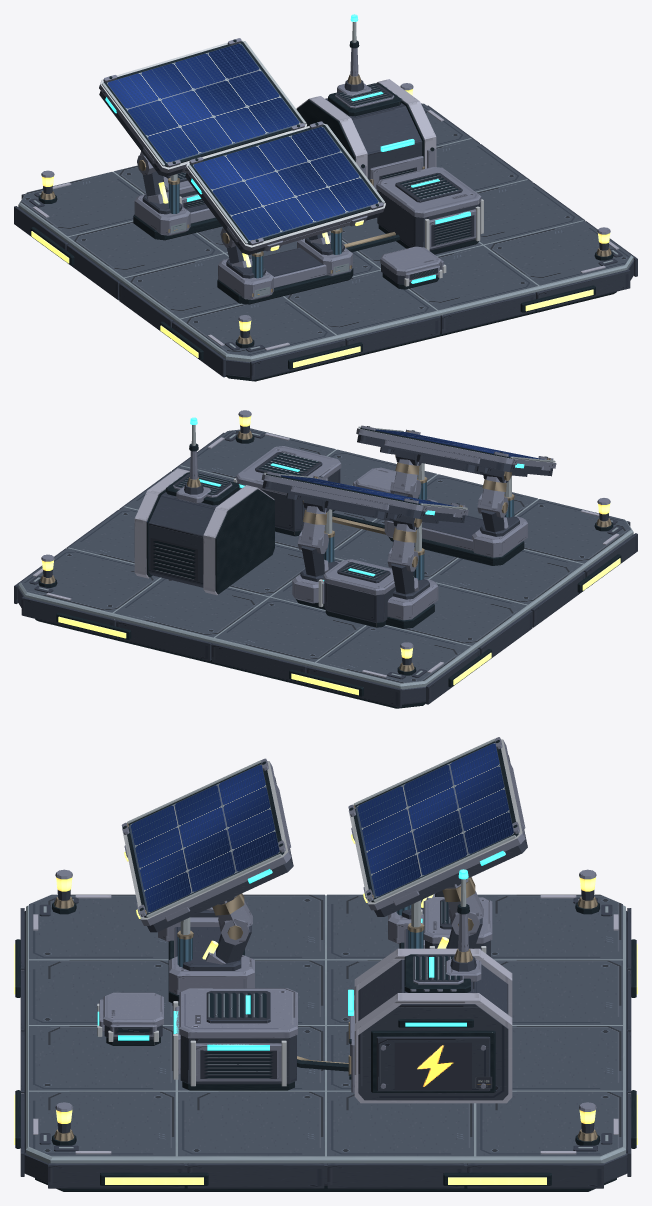
File: PS01_PlantaSolarBasica.fbx
The picture shows the model from 3 angles, top to bottom: view 1: azimuth 30°, elevation 25°; view 2: azimuth 150°, elevation 25°; view 3: azimuth 270°, elevation 25°; orthographic projection. The views are drawn at different scales.
Parts seen in each view (by area): view 1: PlantaSolar_1; view 2: PlantaSolar_1; view 3: PlantaSolar_1.
Boxes of the visible parts, x1,y1,x2,y2 form: PlantaSolar_1: (14,14,637,381); PlantaSolar_1: (14,410,637,708); PlantaSolar_1: (14,737,637,1191).
Bounding box in the file's own units: 5.8 × 2.42 × 5.58.
